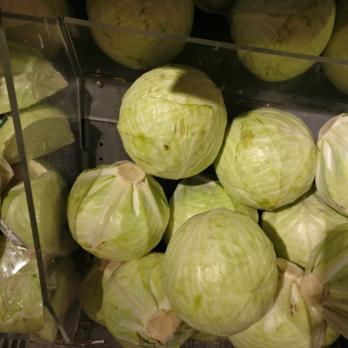Cabbage: (0, 0, 49, 348), (159, 209, 281, 334), (112, 60, 229, 178), (63, 158, 169, 260), (213, 111, 317, 214), (233, 0, 337, 80), (86, 0, 195, 66), (302, 222, 348, 329)
